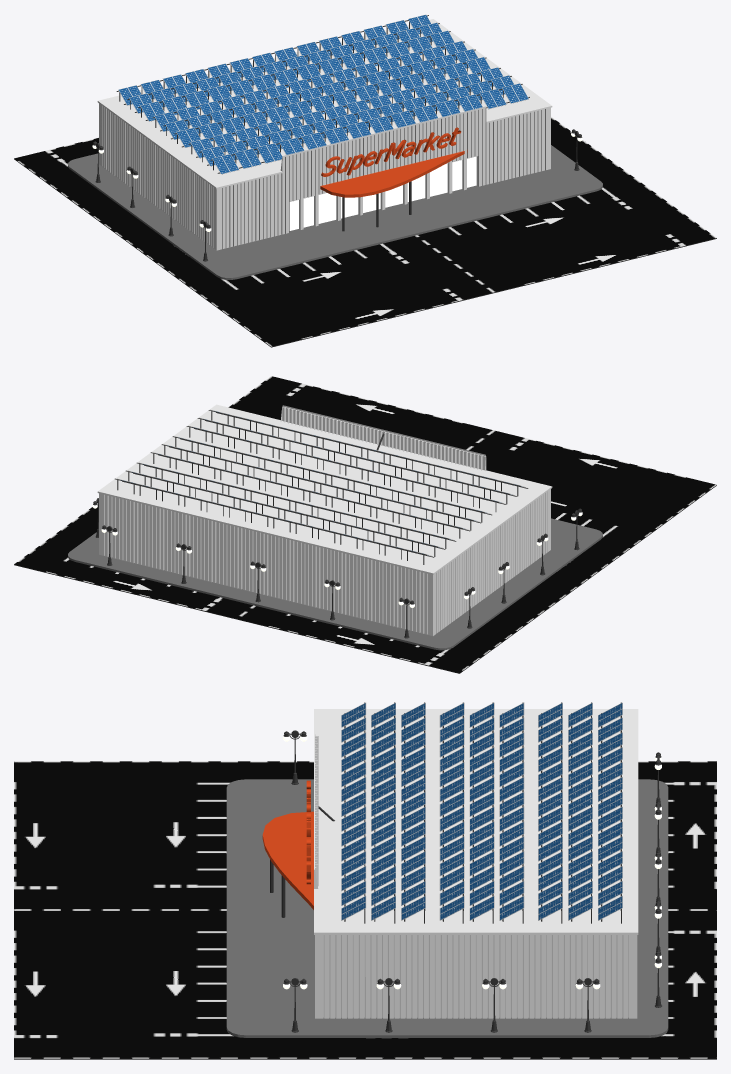
The model's file is Mall.glb.
3 renders of one model, top to bottom at view 1: azimuth 30°, elevation 25°; view 2: azimuth 150°, elevation 25°; view 3: azimuth 270°, elevation 25°, orthographic. The views are drawn at different scales.
Parts seen in each view (by area): view 1: CityGroundLights2.001, Mall, Solar.001; view 2: Mall, CityGroundLights2.001, Solar.001; view 3: CityGroundLights2.001, Mall, Solar.001.
Boxes of the visible parts, x1,y1,x2,y2 form: CityGroundLights2.001: [14, 117, 716, 347]; Mall: [97, 19, 552, 250]; Solar.001: [116, 14, 529, 174]; Mall: [97, 404, 552, 635]; CityGroundLights2.001: [14, 376, 716, 673]; Solar.001: [115, 409, 528, 564]; CityGroundLights2.001: [14, 730, 716, 1059]; Mall: [262, 709, 638, 1018]; Solar.001: [341, 702, 622, 923].
Size of the model in its own units: 6 by 1.05 by 6.
9 materials, 2 textured.
